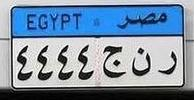4: (37, 44, 53, 80), (57, 45, 72, 81), (78, 44, 92, 80), (18, 45, 31, 80)
jeem: (102, 43, 123, 77)
noon: (129, 47, 154, 75)
raa: (157, 49, 180, 76)
